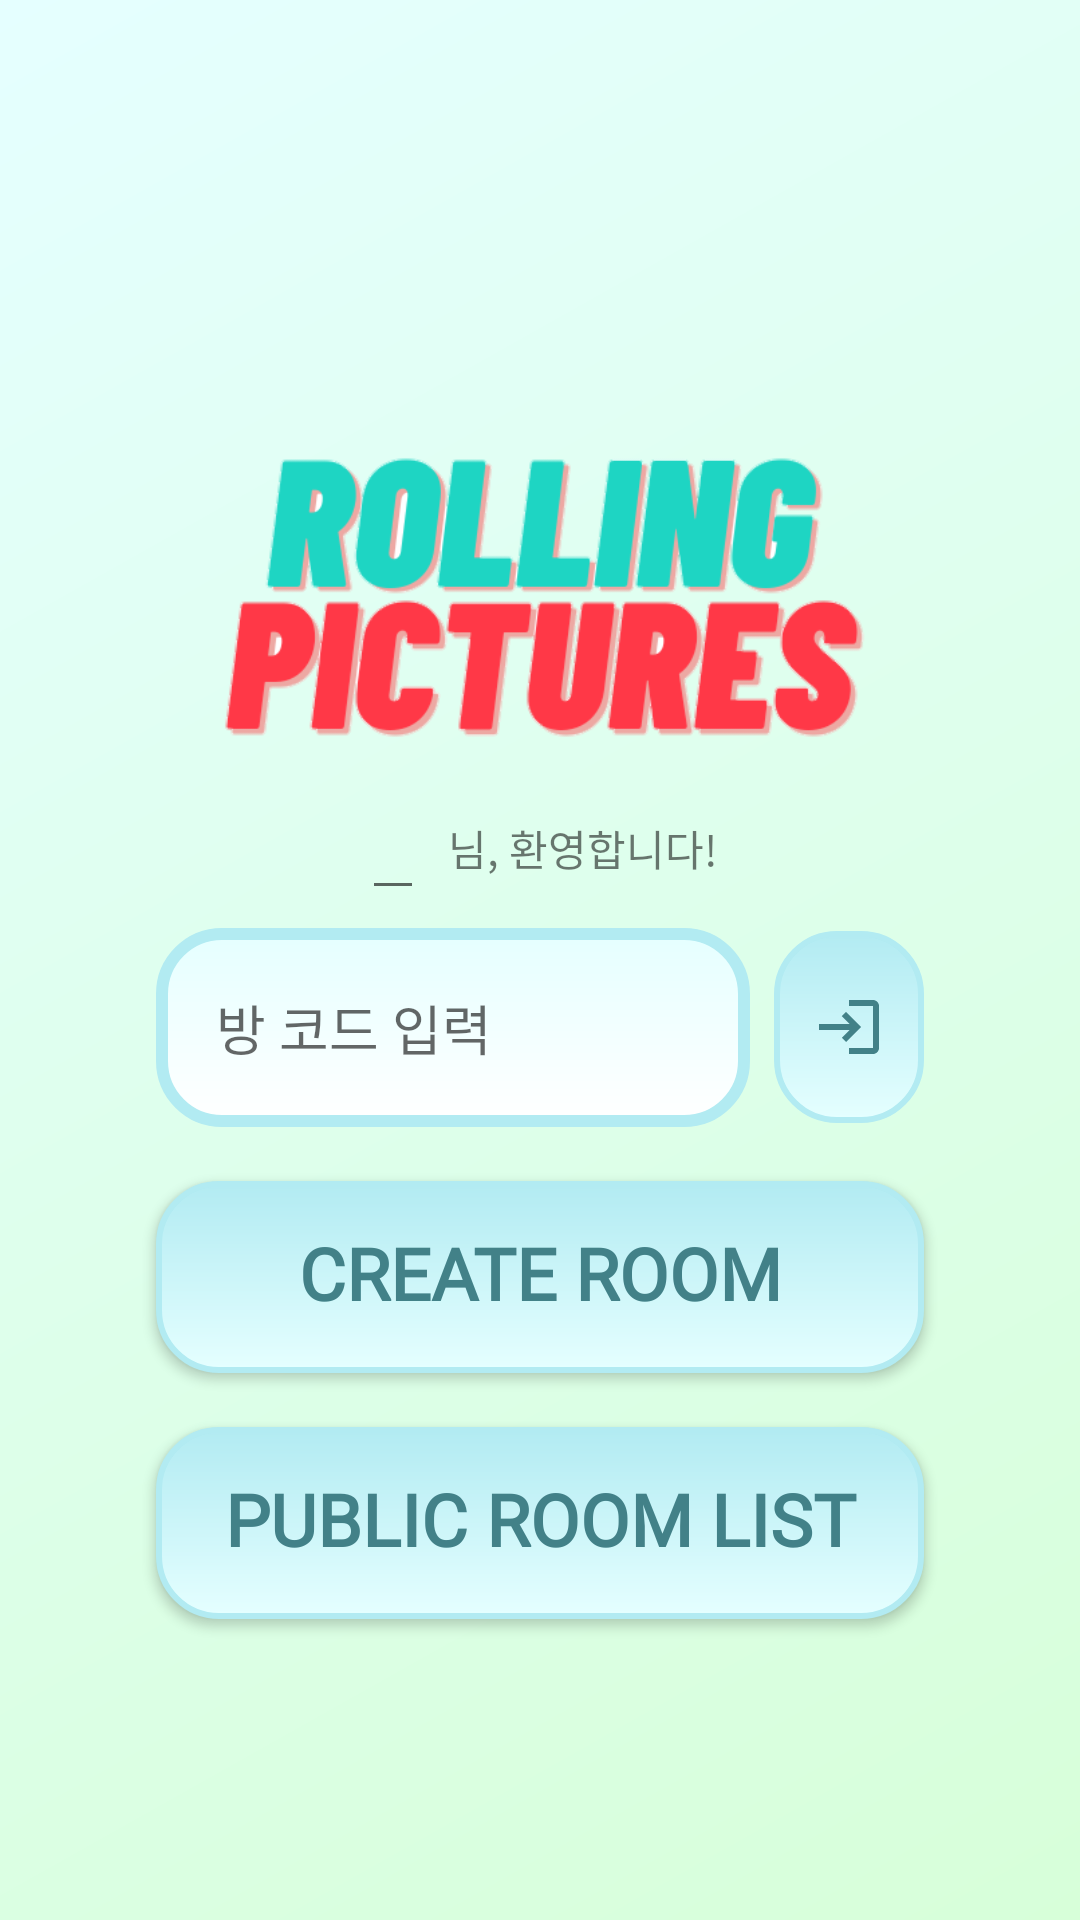

Locate icon controls on the screen. Image size 1080 x 1920, boxes as (x1, y1, x2, y2).
login: (774, 931, 924, 1123)
